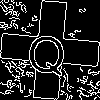Q: (25, 25, 69, 77)
